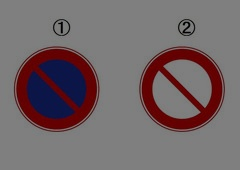Prohibition_sign: (10, 38, 104, 146), (139, 40, 224, 141)
